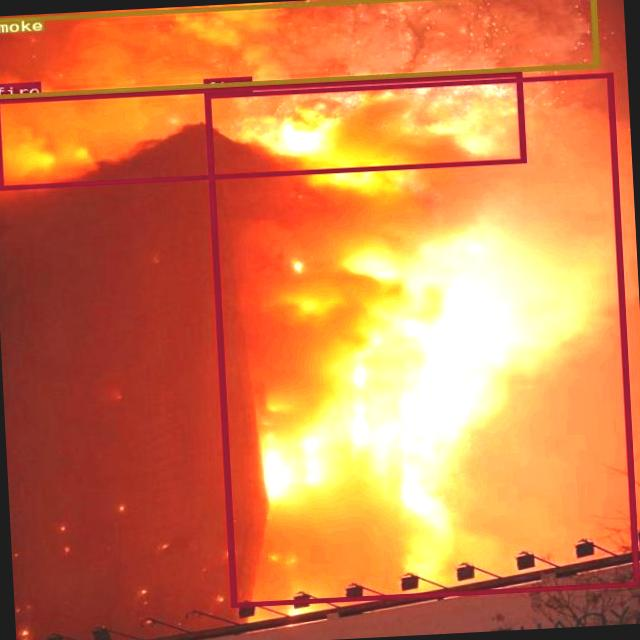fire: (204, 71, 638, 606), (0, 71, 525, 190)
smoke: (0, 0, 598, 98)
